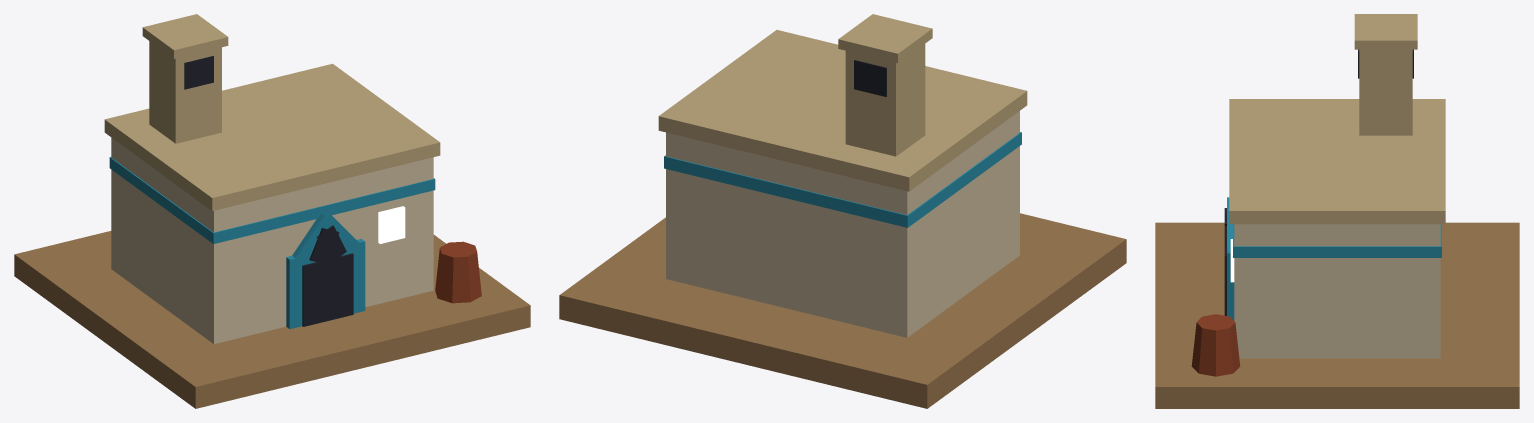
Rendered from house_t1.glb.
The picture shows the model from 3 angles, left to right: view 1: azimuth 30°, elevation 25°; view 2: azimuth 150°, elevation 25°; view 3: azimuth 270°, elevation 25°; orthographic projection. The views are drawn at different scales.
Parts seen in each view (by area): view 1: body, glow; view 2: body; view 3: body.
Boxes of the visible parts, x1=… form: body: x1=14, y1=14, x2=530, y2=408; glow: x1=378, y1=206, x2=405, y2=243; body: x1=559, y1=14, x2=1126, y2=408; body: x1=1155, y1=14, x2=1519, y2=408.
Bounding box in the file's own units: 1.6 × 1.22 × 1.5.
